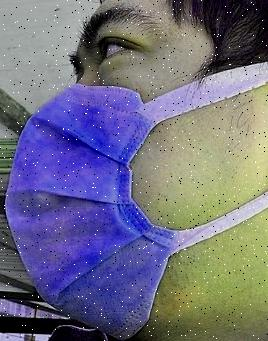with_mask: (1, 2, 268, 341)
